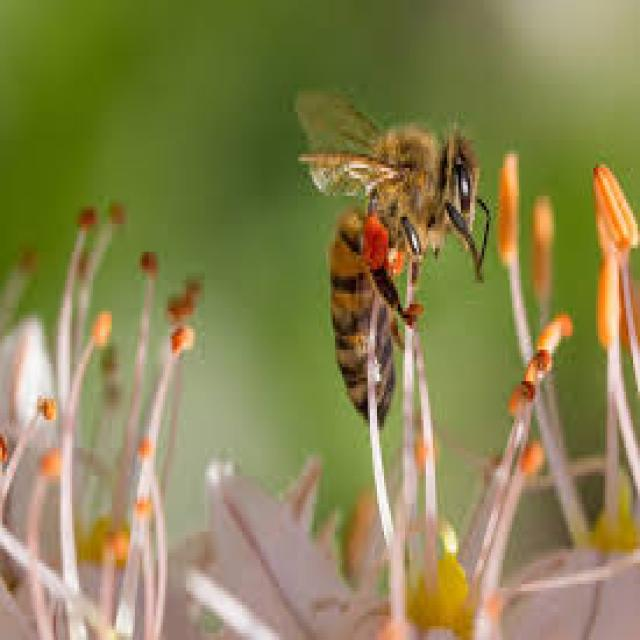Bees: (291, 82, 494, 428)
